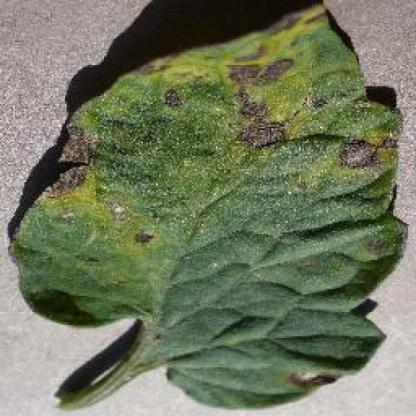Tomato_Blight: (15, 6, 405, 406)
